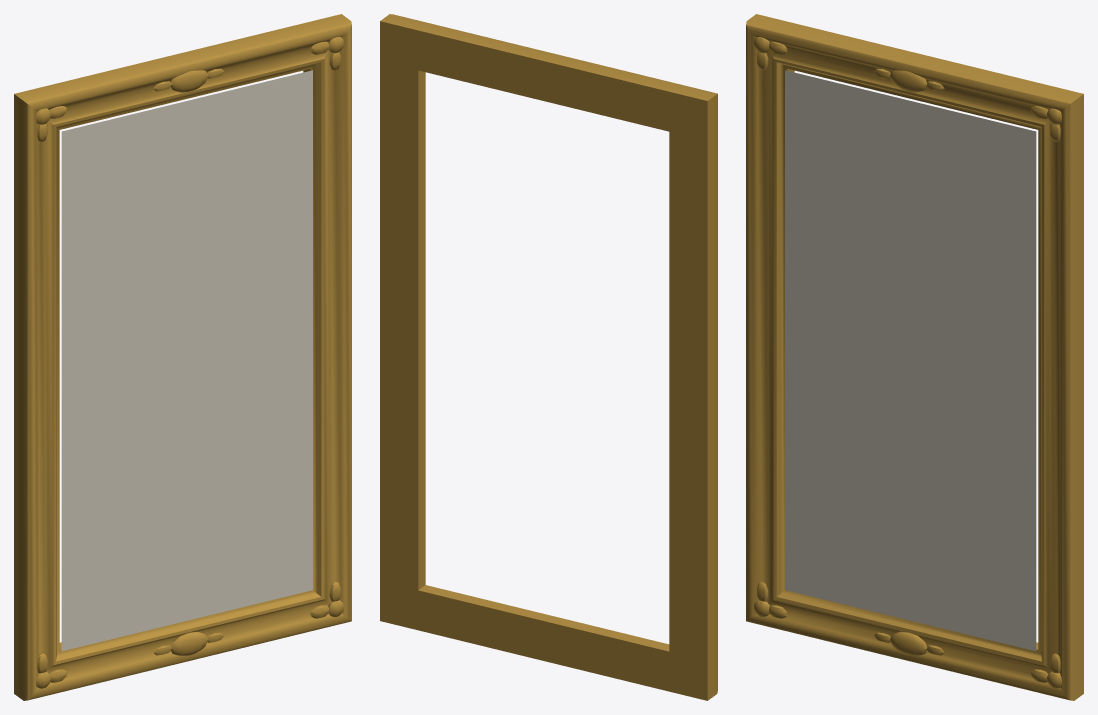
Rendered from frame_ornate_big.glb.
The picture shows the model from 3 angles, left to right: view 1: azimuth 30°, elevation 25°; view 2: azimuth 150°, elevation 25°; view 3: azimuth 330°, elevation 25°; orthographic projection.
Parts seen in each view (by area): view 1: canvas, frame_ornate_big; view 2: frame_ornate_big; view 3: canvas, frame_ornate_big.
Boxes of the visible parts, x1,y1,x2,y2 form: canvas: (61,70,312,651); frame_ornate_big: (14,14,351,700); frame_ornate_big: (380,14,717,700); canvas: (785,70,1036,651); frame_ornate_big: (746,14,1083,700).
Bounding box in the file's own units: 1.2 × 2.1 × 0.0895.
